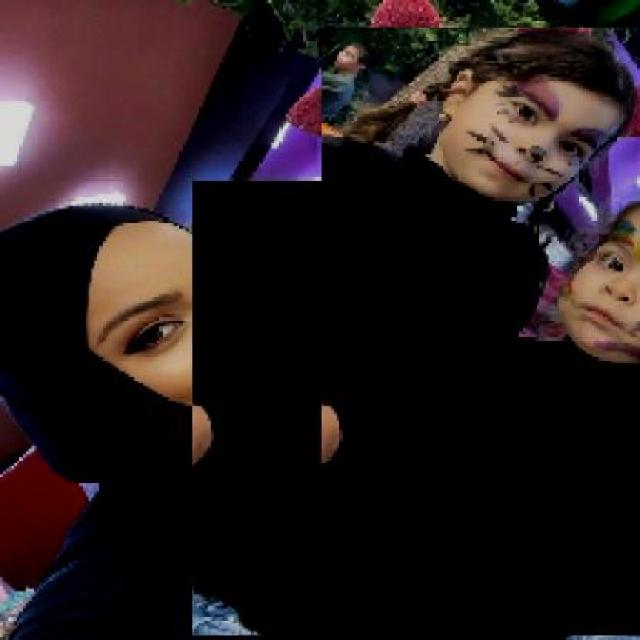child: (191, 180, 640, 637), (320, 28, 640, 466)
